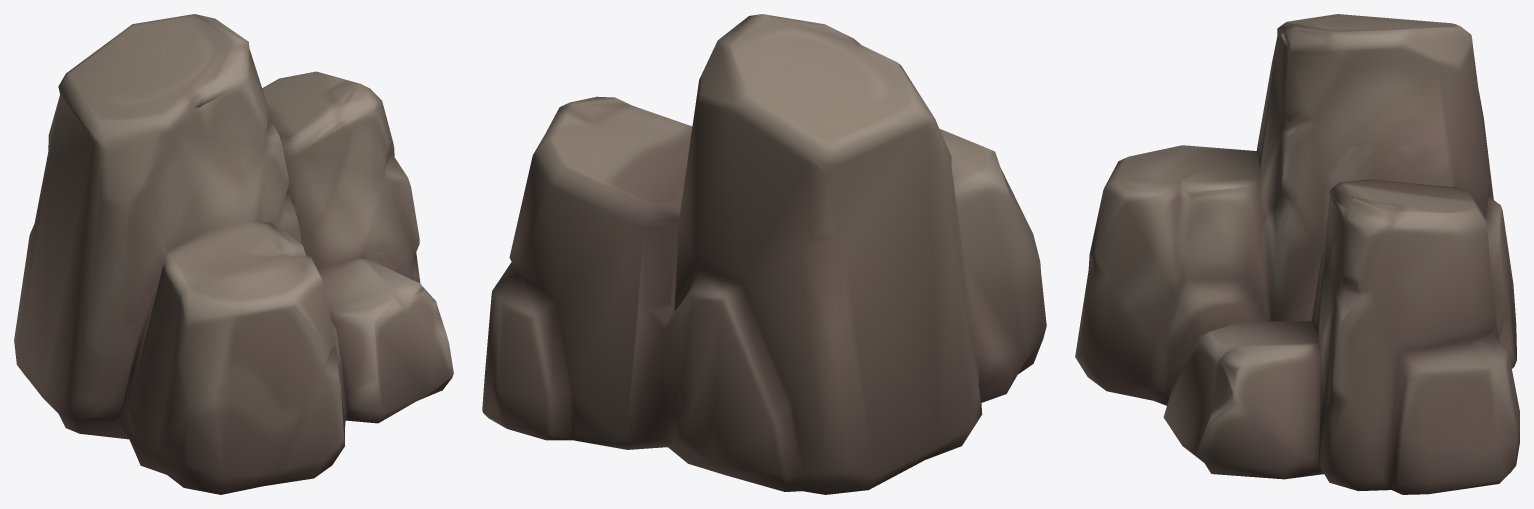
Rendered from map_rock_b_tripo.glb.
3 renders of one model, left to right at view 1: azimuth 30°, elevation 25°; view 2: azimuth 150°, elevation 25°; view 3: azimuth 270°, elevation 25°, orthographic. The views are drawn at different scales.
Parts seen in each view (by area): view 1: tripo_node_762b15a2-795d-49bf-bb56-7f194a02a8fd; view 2: tripo_node_762b15a2-795d-49bf-bb56-7f194a02a8fd; view 3: tripo_node_762b15a2-795d-49bf-bb56-7f194a02a8fd.
Part boxes in pixels (left/top/right/bottom): tripo_node_762b15a2-795d-49bf-bb56-7f194a02a8fd: left=14, top=14, right=453, bottom=494; tripo_node_762b15a2-795d-49bf-bb56-7f194a02a8fd: left=482, top=14, right=1046, bottom=494; tripo_node_762b15a2-795d-49bf-bb56-7f194a02a8fd: left=1075, top=14, right=1519, bottom=494.
Bounding box in the file's own units: 0.998 × 0.873 × 0.9629.
Materials: 1 (1 with a texture image).
